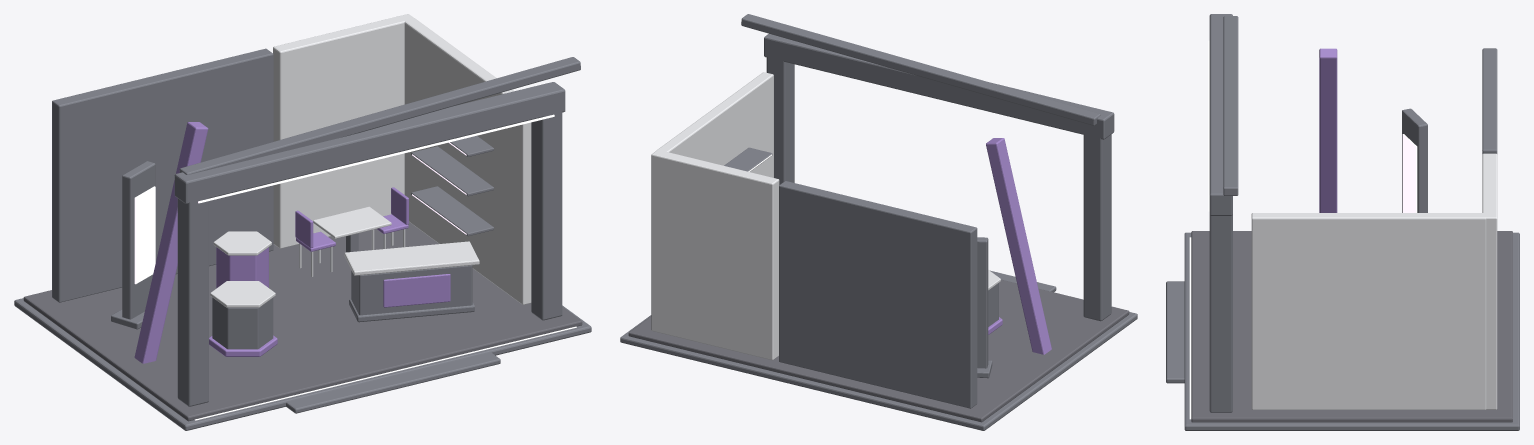
File: booth_06_dynamic_frame_v27_4.glb
The picture shows the model from 3 angles, left to right: view 1: azimuth 30°, elevation 25°; view 2: azimuth 150°, elevation 25°; view 3: azimuth 270°, elevation 25°; orthographic projection. The views are drawn at different scales.
Parts seen in each view (by area): view 1: MatGroup_AnodizedCharcoal, MatGroup_LabMatteIce, MatGroup_GraphiteFloor, MatGroup_DeepVioletMatte, MatGroup_SubtleVioletLED; view 2: MatGroup_AnodizedCharcoal, MatGroup_LabMatteIce, MatGroup_GraphiteFloor, MatGroup_DeepVioletMatte; view 3: MatGroup_LabMatteIce, MatGroup_AnodizedCharcoal, MatGroup_GraphiteFloor, MatGroup_DeepVioletMatte, MatGroup_SubtleVioletLED.
Part boxes in pixels (x1,y1,x2,y2): MatGroup_AnodizedCharcoal: (14, 48, 591, 430); MatGroup_LabMatteIce: (210, 14, 531, 307); MatGroup_GraphiteFloor: (23, 222, 582, 421); MatGroup_DeepVioletMatte: (134, 122, 450, 363); MatGroup_SubtleVioletLED: (134, 114, 576, 420); MatGroup_AnodizedCharcoal: (620, 14, 1137, 430); MatGroup_LabMatteIce: (651, 72, 1000, 360); MatGroup_GraphiteFloor: (628, 279, 1129, 422); MatGroup_DeepVioletMatte: (986, 138, 1051, 354); MatGroup_LabMatteIce: (1251, 153, 1497, 409); MatGroup_AnodizedCharcoal: (1166, 14, 1519, 430); MatGroup_GraphiteFloor: (1191, 231, 1512, 422); MatGroup_DeepVioletMatte: (1319, 48, 1337, 212); MatGroup_SubtleVioletLED: (1189, 40, 1417, 419).
Bounding box in the file's own units: 6.87 × 4.01 × 5.19.
